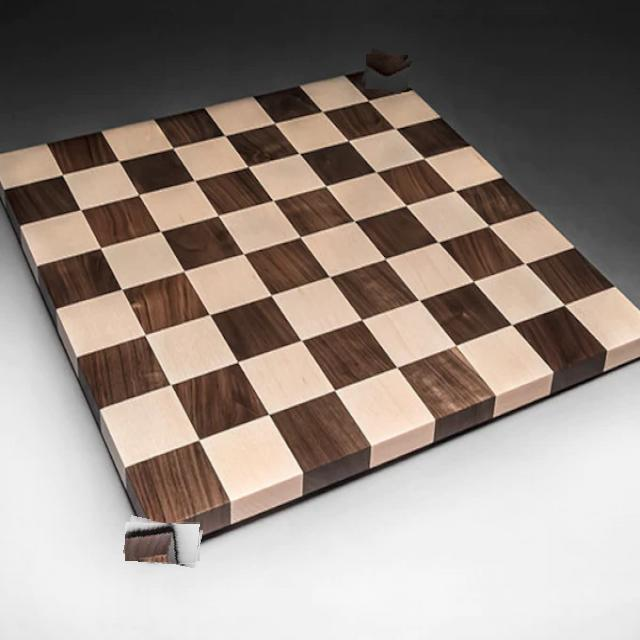chess-table-corners: (125, 519, 201, 564), (364, 51, 410, 92)
